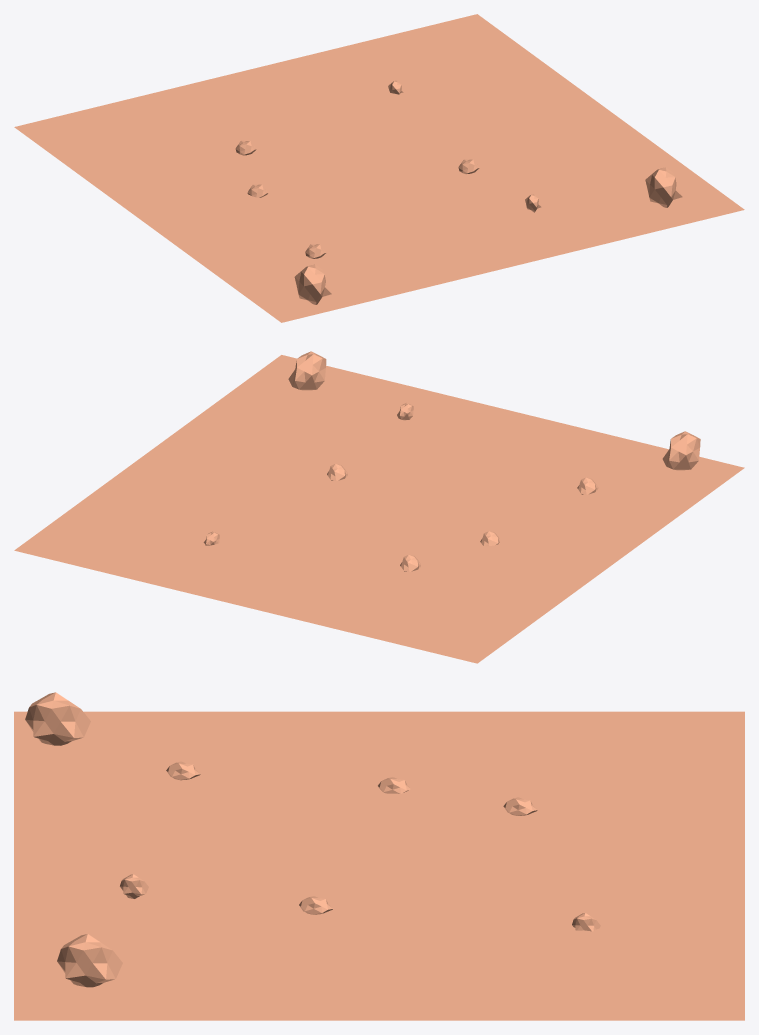
The model's file is Landscape_1.fbx.
3 renders of one model, top to bottom at view 1: azimuth 30°, elevation 25°; view 2: azimuth 150°, elevation 25°; view 3: azimuth 270°, elevation 25°, orthographic. The views are drawn at different scales.
Parts seen in each view (by area): view 1: TERRAIN; view 2: TERRAIN; view 3: TERRAIN.
Part boxes in pixels (bbox=[...]): TERRAIN: bbox=[14, 14, 744, 322]; TERRAIN: bbox=[14, 351, 744, 663]; TERRAIN: bbox=[14, 692, 744, 1020].
Size of the model in its own units: 200 by 17.83 by 200.
